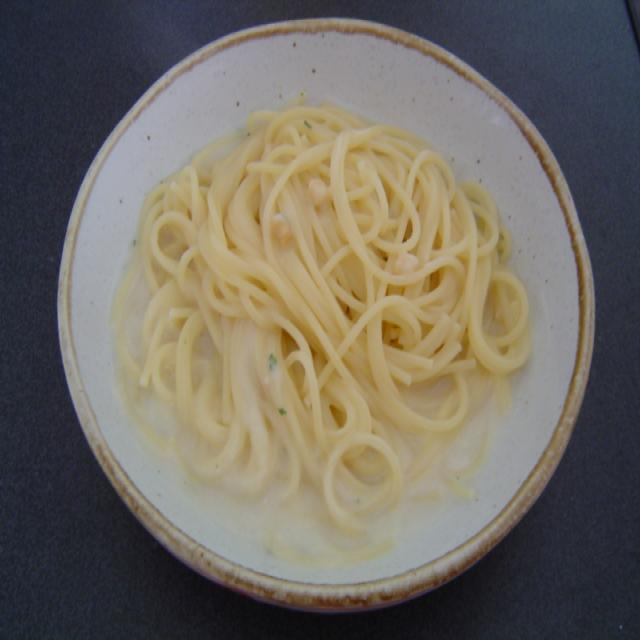Pasta: (124, 114, 540, 489)
